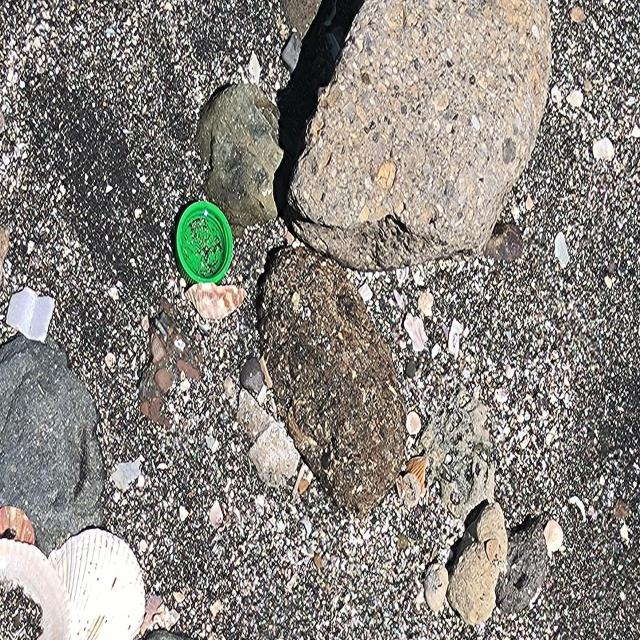plastic_waste: (176, 201, 235, 287)
